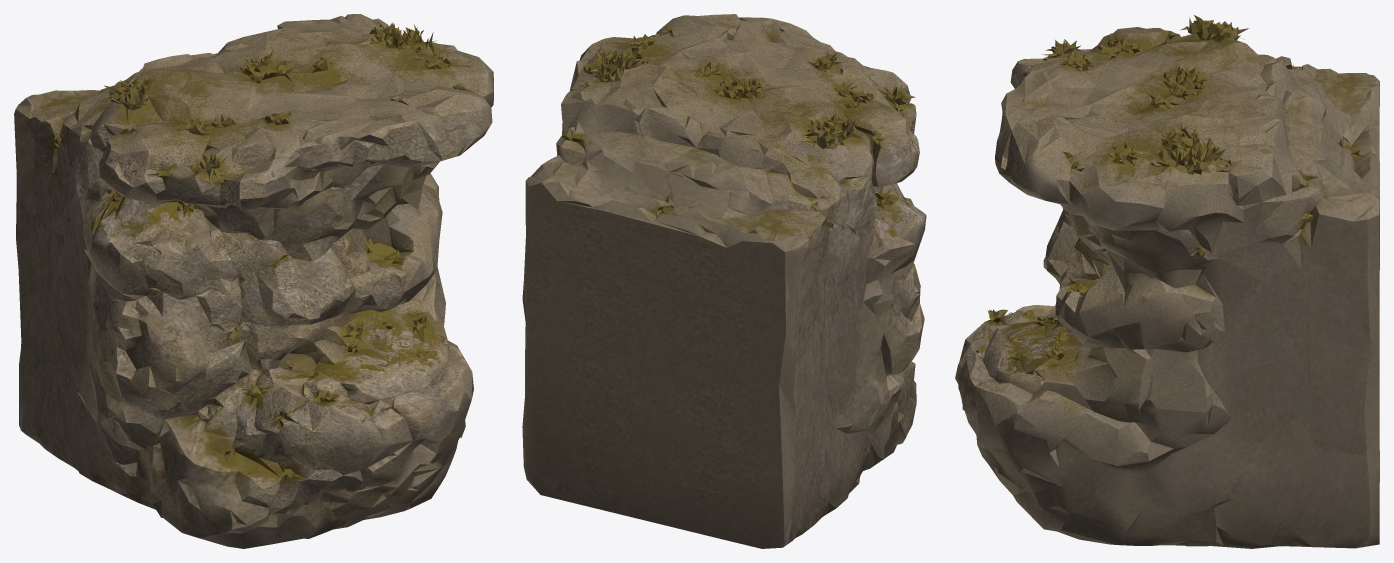
File: pared_saliente_alto.glb
The picture shows the model from 3 angles, left to right: view 1: azimuth 30°, elevation 25°; view 2: azimuth 150°, elevation 25°; view 3: azimuth 270°, elevation 25°; orthographic projection. The views are drawn at different scales.
Visible parts, largest first — view 1: alto; view 2: alto; view 3: alto.
Part boxes in pixels (x1,y1,x2,y2): alto: (14,14,493,548); alto: (522,14,926,548); alto: (955,15,1379,548).
Bounding box in the file's own units: 2.84 × 3 × 2.75.
1 material, 1 textured.
